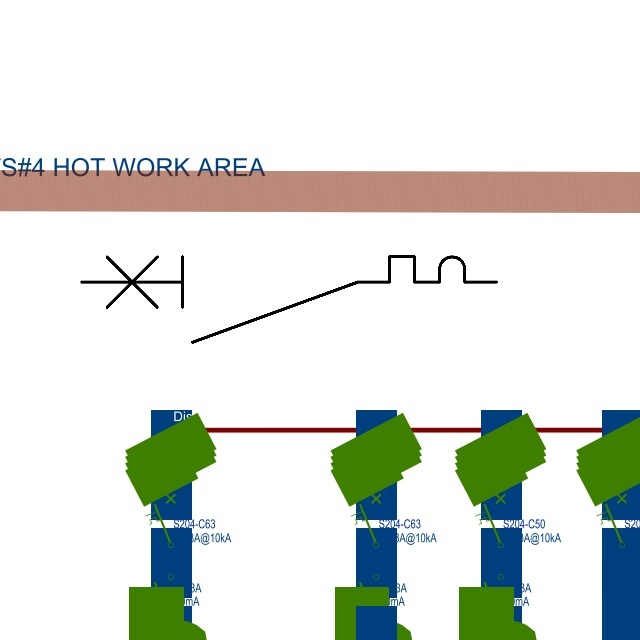interruptor_termomagnetico: (71, 246, 507, 352)
